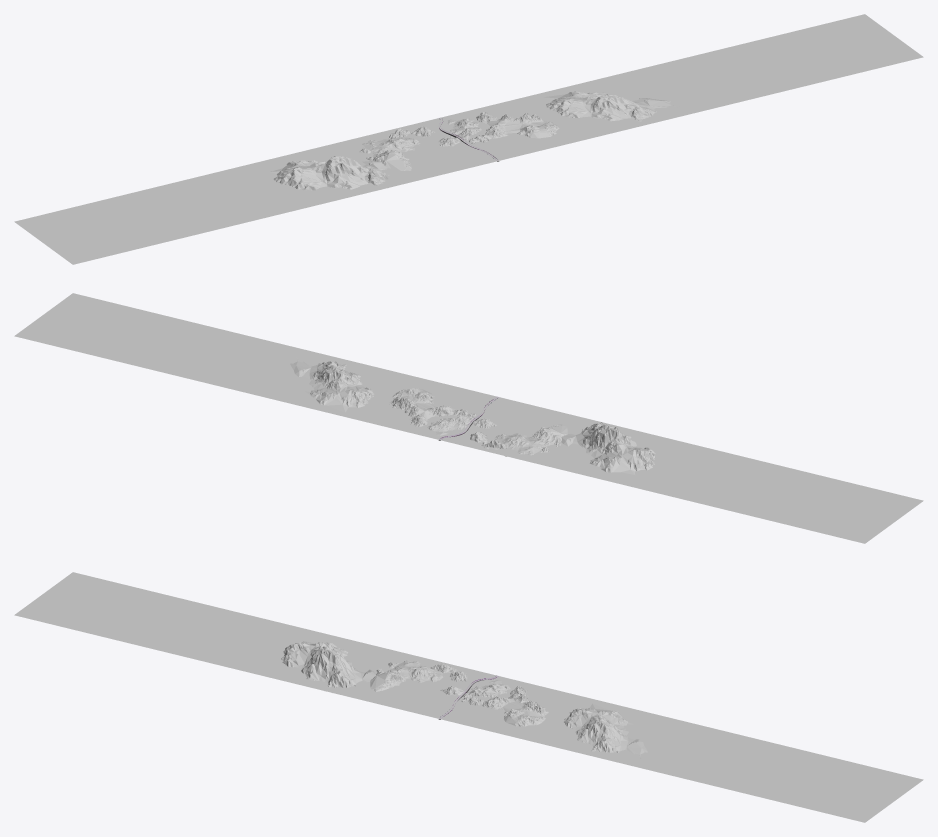
The model's file is Rock_4.FBX.
3 views of the same model, one above another, from view 1: azimuth 30°, elevation 25°; view 2: azimuth 150°, elevation 25°; view 3: azimuth 330°, elevation 25° (orthographic).
Parts seen in each view (by area): view 1: Plane029, Loft002; view 2: Plane029, Loft002; view 3: Plane029, Loft002.
Boxes of the visible parts, <box> form: Plane029: <box>14,14,923,264</box>; Loft002: <box>270,91,674,190</box>; Plane029: <box>14,293,923,543</box>; Loft002: <box>290,359,656,474</box>; Plane029: <box>14,572,923,822</box>; Loft002: <box>281,641,647,756</box>.
Bounding box in the file's own units: 20000 × 2417 × 493.
